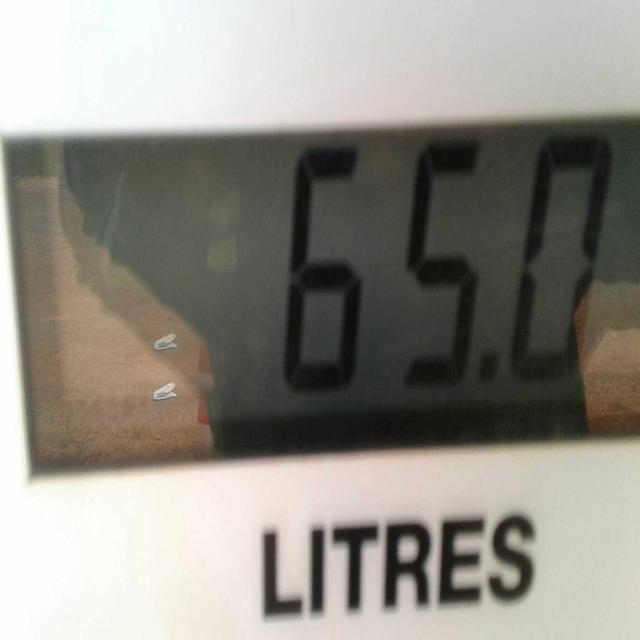.: (467, 330, 507, 413)
0: (501, 122, 614, 426)
5: (388, 130, 494, 394)
6: (261, 128, 369, 413)
